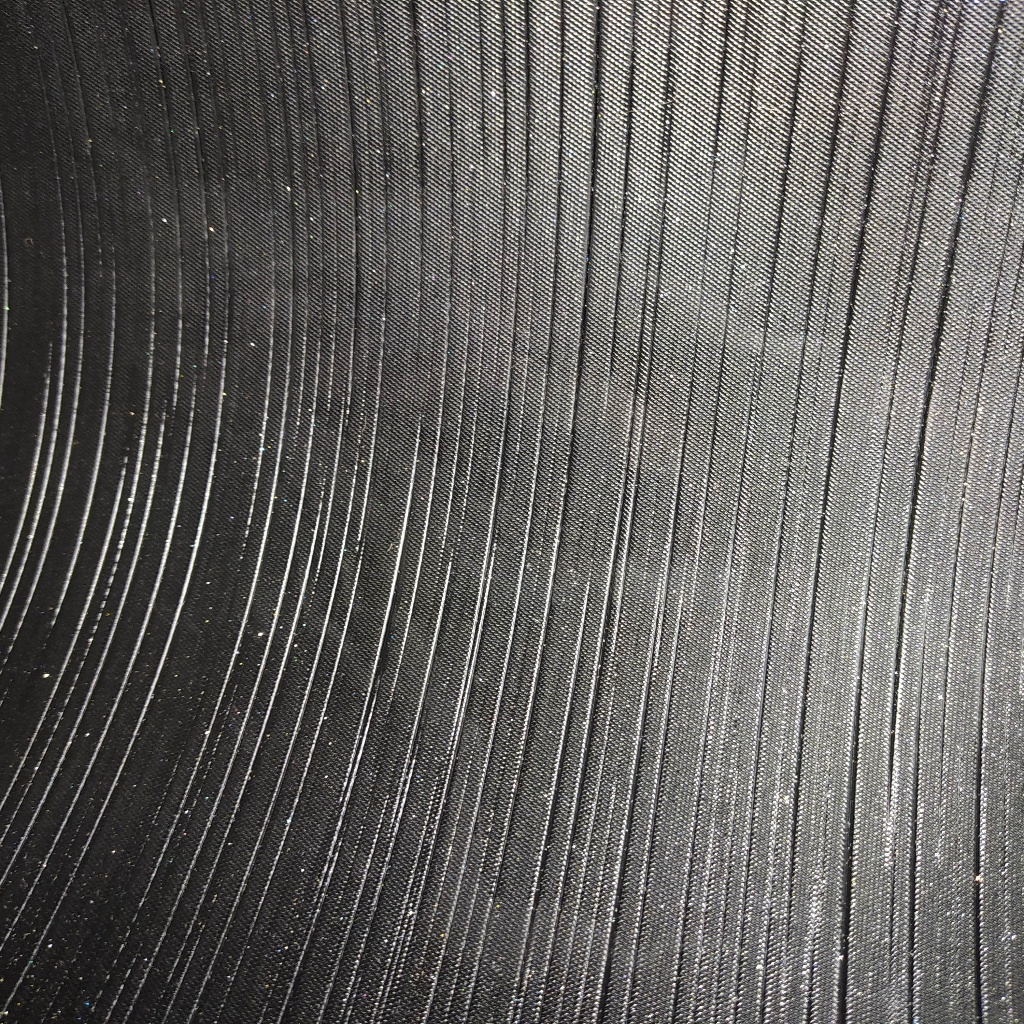friso grande: (580, 1, 608, 260), (602, 228, 627, 411), (833, 843, 855, 1023), (655, 1, 679, 160), (551, 0, 568, 220), (649, 162, 671, 316), (621, 48, 639, 230), (924, 284, 956, 382), (901, 483, 924, 613), (38, 331, 56, 486), (942, 192, 970, 289), (777, 80, 800, 196), (598, 505, 623, 610), (573, 261, 592, 399), (873, 392, 895, 511), (558, 811, 581, 923), (813, 470, 835, 587), (691, 214, 710, 347), (600, 612, 626, 709), (630, 280, 649, 412), (743, 37, 764, 156), (708, 343, 730, 456), (556, 665, 582, 760), (547, 487, 567, 609), (914, 380, 937, 486), (720, 500, 742, 610), (413, 95, 428, 255), (520, 458, 541, 572), (904, 903, 924, 1021), (884, 839, 900, 986), (498, 8, 510, 203), (970, 61, 1001, 135), (905, 792, 926, 901), (706, 98, 725, 216), (802, 908, 822, 1019), (499, 316, 518, 432), (521, 90, 534, 259), (338, 0, 357, 114), (936, 664, 952, 799), (547, 216, 564, 343), (827, 68, 849, 166), (729, 155, 748, 268), (679, 343, 698, 456), (736, 382, 754, 501), (764, 196, 785, 298), (848, 187, 879, 256), (387, 517, 410, 610), (438, 271, 455, 396), (666, 454, 686, 557), (574, 566, 594, 669), (769, 496, 787, 610), (802, 242, 823, 338), (560, 396, 582, 487), (443, 2, 456, 155), (970, 881, 984, 1023), (968, 774, 986, 883), (823, 378, 844, 471), (811, 161, 835, 242), (485, 432, 505, 529), (584, 650, 606, 737), (881, 709, 903, 796), (536, 341, 552, 460), (909, 697, 929, 792), (475, 0, 487, 157), (865, 506, 882, 616), (715, 2, 734, 100), (837, 1, 863, 72), (617, 412, 636, 509), (955, 134, 985, 195), (982, 3, 1013, 62), (641, 316, 660, 412), (70, 317, 84, 446), (843, 707, 867, 782), (843, 254, 866, 331), (528, 853, 547, 946), (509, 941, 531, 1021), (697, 848, 716, 940), (707, 612, 725, 709), (974, 680, 992, 777), (750, 295, 770, 382), (572, 730, 592, 816), (408, 0, 426, 95), (717, 266, 738, 347), (348, 203, 364, 309), (782, 406, 800, 500), (621, 495, 638, 594), (544, 756, 561, 855), (403, 853, 432, 911), (632, 880, 652, 964), (882, 1, 910, 60), (366, 851, 389, 922), (381, 172, 395, 288), (651, 725, 671, 806), (697, 454, 713, 555), (281, 295, 298, 390), (477, 531, 497, 611), (329, 773, 354, 837), (387, 908, 419, 958), (957, 435, 974, 529), (993, 442, 1010, 536), (740, 817, 756, 916), (890, 615, 908, 703), (540, 925, 557, 1018), (378, 286, 395, 378), (915, 606, 932, 697), (640, 804, 660, 881), (193, 800, 219, 859), (153, 14, 174, 87), (290, 469, 313, 535), (778, 918, 796, 1002), (106, 747, 135, 799), (347, 304, 362, 404), (410, 529, 428, 612), (875, 61, 899, 123), (75, 196, 87, 320), (784, 829, 800, 922), (596, 708, 615, 786), (152, 836, 181, 887), (429, 762, 458, 813), (696, 706, 713, 793), (449, 399, 467, 481), (177, 544, 199, 611), (584, 786, 605, 856), (833, 325, 857, 385), (794, 0, 812, 80), (667, 941, 685, 1021), (748, 734, 766, 814), (446, 153, 458, 272), (924, 103, 947, 165), (377, 959, 402, 1016), (851, 633, 870, 708), (691, 938, 709, 1017), (866, 120, 886, 191), (191, 483, 213, 547), (685, 793, 703, 871), (902, 246, 922, 316), (175, 233, 189, 333), (91, 419, 111, 489), (893, 312, 910, 394), (573, 853, 596, 913), (58, 228, 75, 309), (839, 778, 859, 846), (148, 257, 162, 353), (217, 649, 241, 705), (196, 855, 220, 911), (348, 710, 369, 774), (304, 393, 321, 472), (167, 798, 198, 841), (786, 757, 805, 827), (145, 177, 161, 260), (972, 357, 989, 435), (979, 605, 996, 682), (445, 703, 467, 762), (244, 538, 262, 610), (460, 808, 484, 862), (371, 2, 387, 82), (165, 494, 185, 558), (147, 553, 169, 611), (33, 451, 55, 509), (918, 160, 942, 213), (72, 837, 97, 887), (986, 284, 1002, 361), (364, 436, 380, 513), (172, 861, 194, 917), (445, 961, 467, 1017), (1010, 352, 1022, 454), (792, 337, 809, 409), (420, 805, 444, 856), (462, 634, 479, 706), (305, 540, 328, 593), (189, 746, 212, 799), (489, 847, 510, 905), (166, 85, 182, 161), (796, 681, 811, 762), (171, 333, 184, 426), (303, 196, 318, 276), (222, 238, 234, 338), (319, 835, 343, 885), (599, 578, 615, 653), (663, 650, 678, 730), (303, 0, 316, 92), (113, 917, 139, 963), (939, 54, 961, 108), (349, 406, 364, 485), (519, 0, 532, 91), (615, 824, 628, 915), (592, 964, 612, 1023), (325, 549, 344, 611), (430, 399, 444, 483), (170, 0, 191, 56), (341, 965, 362, 1021), (635, 410, 649, 493), (104, 342, 118, 425), (101, 552, 121, 610), (347, 112, 359, 208), (205, 700, 229, 748), (641, 645, 659, 709), (314, 495, 339, 541), (53, 561, 76, 611), (524, 662, 538, 744), (1007, 169, 1023, 240), (440, 481, 456, 552), (986, 534, 1000, 615), (120, 645, 141, 699), (761, 889, 779, 952), (288, 194, 299, 297), (207, 408, 222, 483), (215, 335, 230, 410), (69, 42, 88, 101), (219, 162, 233, 242), (67, 124, 80, 210), (118, 559, 139, 612), (312, 311, 325, 396), (74, 689, 97, 737), (472, 910, 495, 958), (679, 871, 695, 940), (268, 199, 279, 299), (429, 612, 451, 662), (897, 211, 912, 284), (284, 114, 297, 198), (950, 523, 962, 613), (47, 119, 65, 179), (47, 393, 65, 453), (364, 651, 382, 711), (263, 456, 276, 539), (275, 35, 288, 118), (40, 608, 65, 651), (275, 389, 291, 456), (143, 353, 156, 435), (362, 822, 381, 878), (950, 0, 968, 59), (133, 690, 151, 749), (387, 790, 405, 849), (28, 924, 52, 968), (855, 586, 877, 634), (341, 481, 356, 551), (250, 439, 265, 509), (625, 766, 642, 827), (171, 162, 185, 236), (774, 749, 788, 823), (329, 932, 350, 981), (266, 298, 279, 377), (77, 490, 96, 544), (463, 963, 481, 1020), (128, 433, 144, 497), (1010, 470, 1024, 543), (60, 311, 72, 396), (802, 621, 819, 681), (275, 742, 297, 788), (916, 106, 934, 162), (293, 918, 314, 966), (514, 742, 530, 805), (943, 608, 960, 667), (316, 239, 330, 310), (213, 98, 227, 169), (759, 950, 773, 1021), (768, 819, 782, 890), (324, 441, 343, 493), (260, 786, 281, 833), (80, 97, 97, 155), (346, 876, 363, 934), (118, 493, 134, 554), (315, 166, 328, 241), (205, 47, 223, 101), (54, 176, 72, 230), (539, 607, 556, 664), (102, 981, 125, 1023), (201, 231, 213, 311), (260, 374, 274, 442), (176, 439, 193, 495), (155, 406, 169, 474), (137, 596, 154, 652), (507, 570, 526, 620), (184, 369, 197, 442), (131, 887, 153, 930), (308, 878, 329, 923), (884, 282, 900, 341), (380, 768, 398, 820), (410, 695, 428, 747), (475, 756, 492, 811), (164, 610, 183, 659), (299, 139, 315, 197), (183, 58, 199, 116), (276, 979, 297, 1023), (282, 535, 300, 586), (228, 557, 245, 611), (197, 175, 213, 232), (68, 650, 87, 698), (56, 447, 69, 517), (40, 683, 62, 724), (276, 810, 298, 851), (626, 0, 643, 53), (400, 743, 417, 796), (450, 865, 467, 918), (420, 481, 438, 531), (671, 594, 686, 654), (658, 555, 673, 614), (379, 83, 389, 171), (31, 543, 47, 598), (92, 649, 112, 693), (303, 273, 315, 346), (924, 40, 936, 112), (758, 665, 770, 737), (81, 743, 101, 786), (91, 157, 104, 223), (438, 568, 457, 613), (193, 117, 208, 174), (236, 921, 255, 966), (689, 545, 701, 616), (104, 693, 121, 743), (295, 573, 312, 623), (733, 917, 744, 994), (230, 611, 249, 655), (301, 734, 323, 772), (470, 596, 493, 632), (36, 727, 56, 768), (359, 920, 376, 968), (303, 657, 321, 702), (94, 223, 106, 290), (86, 610, 103, 657), (378, 606, 395, 653), (240, 504, 254, 561), (498, 807, 517, 849), (649, 607, 670, 645), (255, 632, 270, 685), (620, 966, 635, 1019), (404, 459, 417, 520), (565, 912, 578, 973), (763, 608, 776, 669), (290, 699, 308, 743), (250, 885, 270, 924), (412, 406, 426, 461), (313, 610, 329, 658), (504, 618, 520, 666), (71, 612, 88, 657), (195, 908, 212, 953), (57, 0, 75, 42), (313, 90, 323, 165), (220, 742, 232, 804), (265, 143, 279, 196), (52, 887, 69, 930), (201, 311, 213, 371), (54, 693, 72, 733), (294, 769, 312, 809), (266, 849, 286, 885), (142, 468, 157, 515), (213, 986, 232, 1023), (904, 159, 917, 213), (267, 665, 285, 704), (41, 769, 58, 810), (258, 698, 273, 744), (57, 737, 76, 773), (33, 851, 52, 887), (318, 979, 334, 1021), (430, 961, 446, 1003), (260, 82, 271, 143), (66, 784, 84, 821), (299, 344, 311, 399), (558, 970, 573, 1014), (638, 706, 649, 766), (286, 35, 300, 82), (94, 796, 110, 837), (179, 944, 197, 980), (152, 657, 169, 695), (246, 833, 265, 867), (643, 221, 653, 285), (246, 742, 262, 782), (253, 36, 266, 85), (22, 720, 43, 750), (316, 688, 330, 733), (231, 722, 248, 759), (224, 900, 240, 939), (419, 660, 435, 699), (106, 612, 121, 653), (162, 977, 177, 1018), (373, 376, 383, 436), (267, 0, 282, 40), (195, 968, 212, 1003), (605, 910, 616, 964), (914, 212, 930, 249), (52, 814, 67, 853), (219, 816, 232, 861), (497, 666, 510, 711), (487, 711, 500, 756), (282, 3, 298, 39), (295, 85, 306, 137), (129, 978, 145, 1013), (133, 514, 146, 557), (341, 612, 354, 655), (806, 583, 821, 620), (288, 586, 309, 612), (145, 944, 159, 983), (27, 801, 43, 835), (997, 241, 1010, 282), (244, 684, 257, 725), (56, 652, 72, 685), (69, 529, 84, 564), (224, 965, 240, 997), (235, 867, 250, 901), (232, 782, 245, 821), (441, 918, 452, 964), (271, 586, 289, 614), (158, 918, 175, 947), (285, 626, 296, 670), (331, 656, 345, 690), (211, 937, 225, 970), (248, 1, 260, 39), (934, 4, 945, 44), (292, 953, 307, 982), (728, 991, 741, 1024), (269, 600, 281, 635), (202, 12, 213, 49), (42, 520, 57, 546), (126, 954, 139, 981), (613, 593, 628, 613)
friso pequeno: (492, 205, 509, 376), (459, 252, 475, 403), (472, 281, 490, 415), (515, 327, 533, 458), (413, 254, 429, 372), (324, 294, 337, 426), (463, 415, 482, 505), (33, 46, 53, 116), (355, 511, 373, 588), (141, 96, 157, 181), (126, 28, 145, 94), (451, 504, 468, 571), (107, 244, 118, 346), (333, 867, 352, 924), (995, 99, 1013, 157), (428, 553, 446, 609), (47, 17, 66, 70), (366, 756, 383, 815), (1009, 33, 1024, 96), (60, 66, 74, 129), (511, 237, 522, 316), (977, 203, 991, 257), (333, 162, 338, 299), (224, 74, 239, 119), (219, 22, 230, 76), (353, 812, 367, 853), (342, 848, 357, 886), (114, 0, 131, 33), (197, 371, 208, 419), (232, 118, 240, 177), (987, 155, 996, 204), (343, 586, 357, 613)
